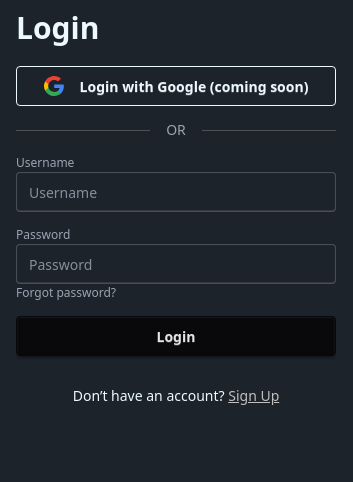
Scenario: LoginPage › shows error message on failed login
Type "user1" into the field with placeholder "Username" at x=176, y=192, box [16,172,336,212]
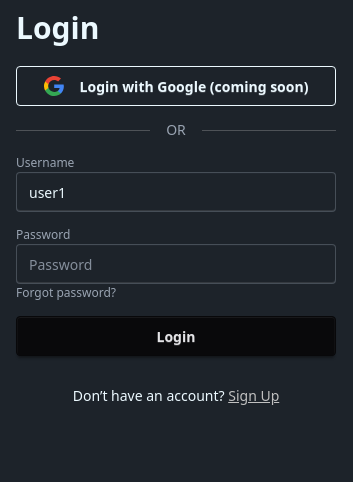
Type "wrongpass" into the password field with placeholder "Password" at x=176, y=264, box [16,244,336,284]
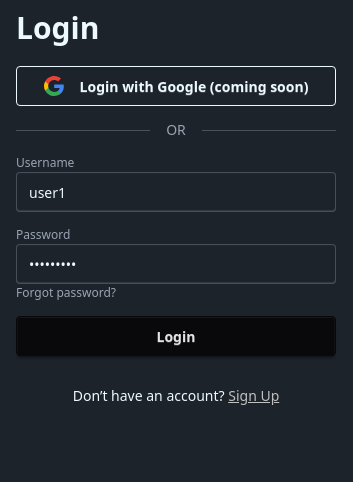
Click the button with test id "submit-login" at x=176, y=336, box [16,316,336,356]
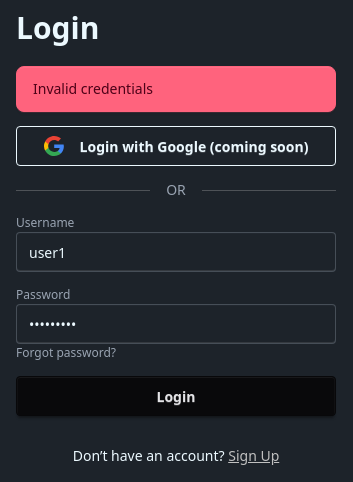
Expected: the text "Invalid credentials" is shown, [33,79,153,99]
